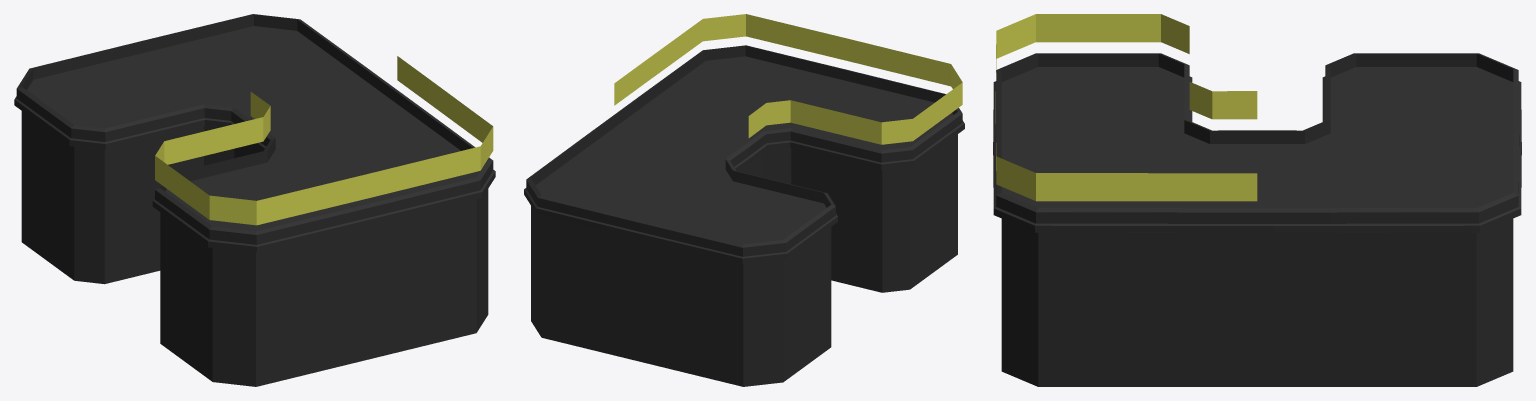
File: BuildingTest.FBX
3 renders of one model, left to right at view 1: azimuth 30°, elevation 25°; view 2: azimuth 150°, elevation 25°; view 3: azimuth 270°, elevation 25°, orthographic. The views are drawn at different scales.
Visible parts, largest first — view 1: Box001; view 2: Box001; view 3: Box001.
Part boxes in pixels (x1,y1,x2,y2): Box001: (14, 14, 495, 386); Box001: (524, 14, 964, 386); Box001: (993, 14, 1521, 386).
Size of the model in its own units: 1045 by 653 by 1447.
